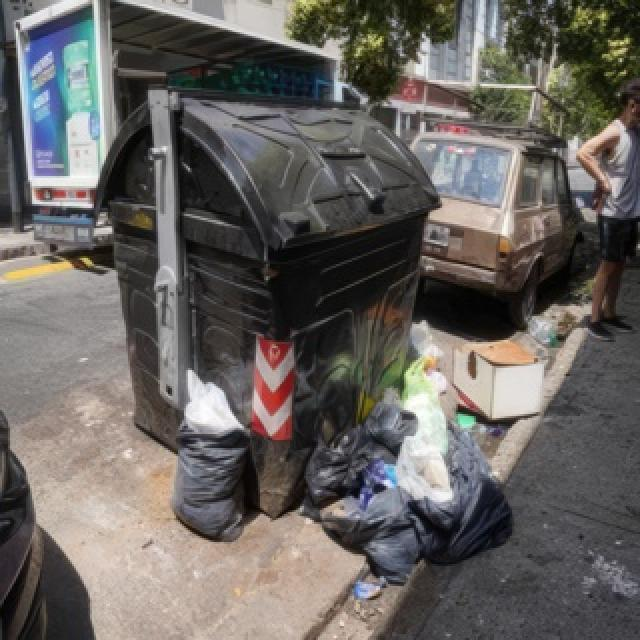Trashbag: (151, 401, 244, 542), (449, 462, 513, 541), (367, 494, 415, 584), (307, 419, 354, 492), (362, 398, 406, 461)
